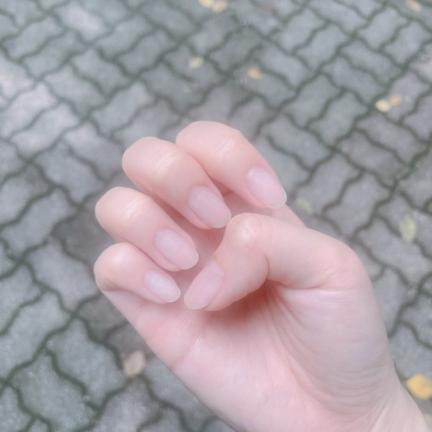Nail: (184, 259, 224, 308), (188, 185, 231, 228), (155, 229, 198, 269), (246, 166, 286, 208), (144, 271, 181, 302)
